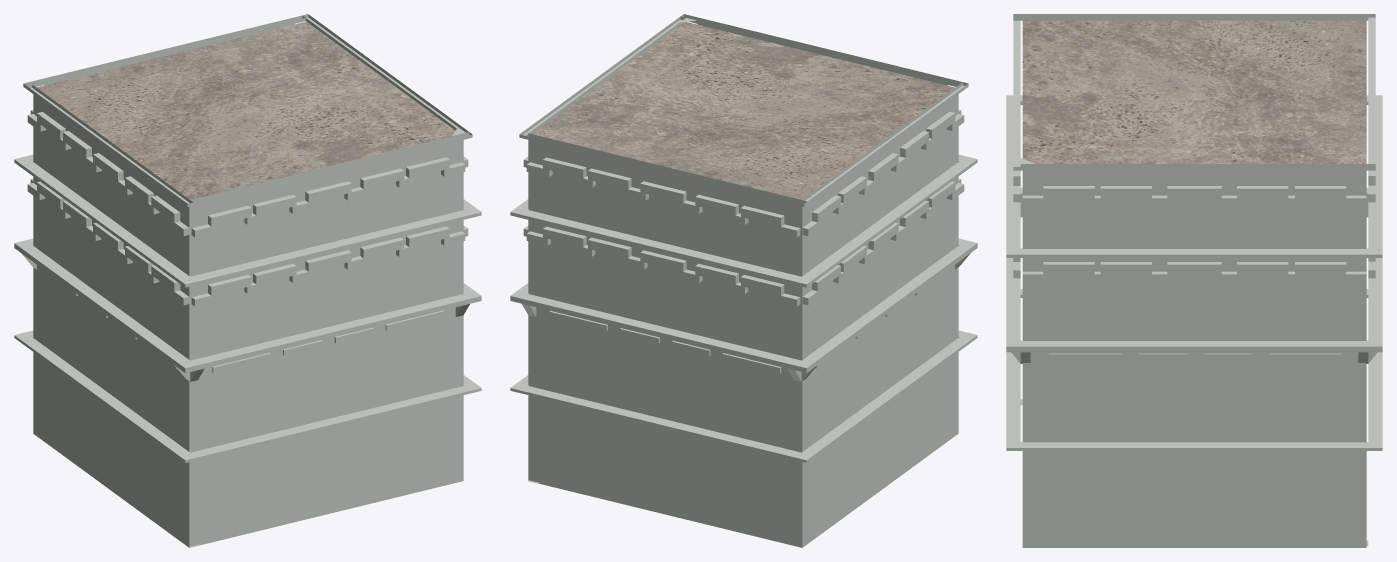
The model's file is BagBuilding2_70.fbx.
3 views of the same model, side by side, from view 1: azimuth 30°, elevation 25°; view 2: azimuth 150°, elevation 25°; view 3: azimuth 270°, elevation 25° (orthographic). The views are drawn at different scales.
Parts seen in each view (by area): view 1: mainA70, Box70, roof70, box70; view 2: mainA70, Box70, roof70, box70; view 3: Box70, roof70, mainA70, box70.
Part boxes in pixels (left/top/right/bottom): mainA70: left=14, top=14, right=481, bottom=547; Box70: left=33, top=94, right=463, bottom=452; roof70: left=36, top=21, right=455, bottom=199; box70: left=33, top=352, right=463, bottom=547; mainA70: left=510, top=14, right=977, bottom=544; Box70: left=528, top=94, right=958, bottom=452; roof70: left=532, top=22, right=954, bottom=199; box70: left=528, top=352, right=958, bottom=547; Box70: left=1022, top=170, right=1366, bottom=442; roof70: left=1022, top=20, right=1366, bottom=163; mainA70: left=1006, top=14, right=1382, bottom=546; box70: left=1022, top=451, right=1366, bottom=547.
Size of the model in its own units: 20.77 by 23.34 by 20.77.
